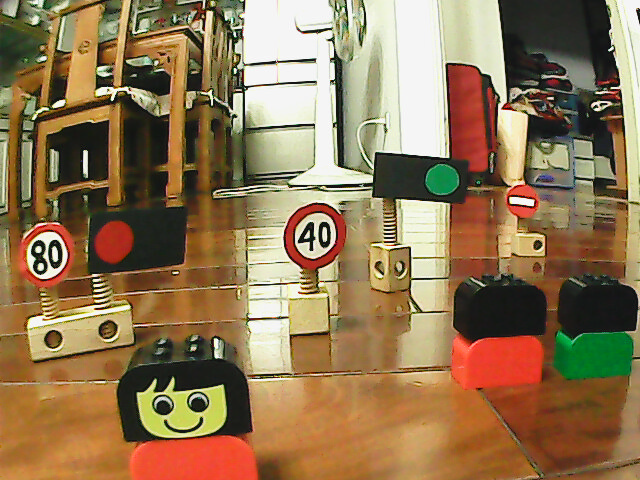Green Traffic Light: (420, 157, 464, 202)
Person: (115, 332, 263, 480)
Red Traffic Light: (89, 215, 141, 270)
Speed Limit 40: (280, 200, 350, 272)
Speed Limit 80: (15, 217, 77, 291)
Stop Sign: (504, 182, 540, 221)
